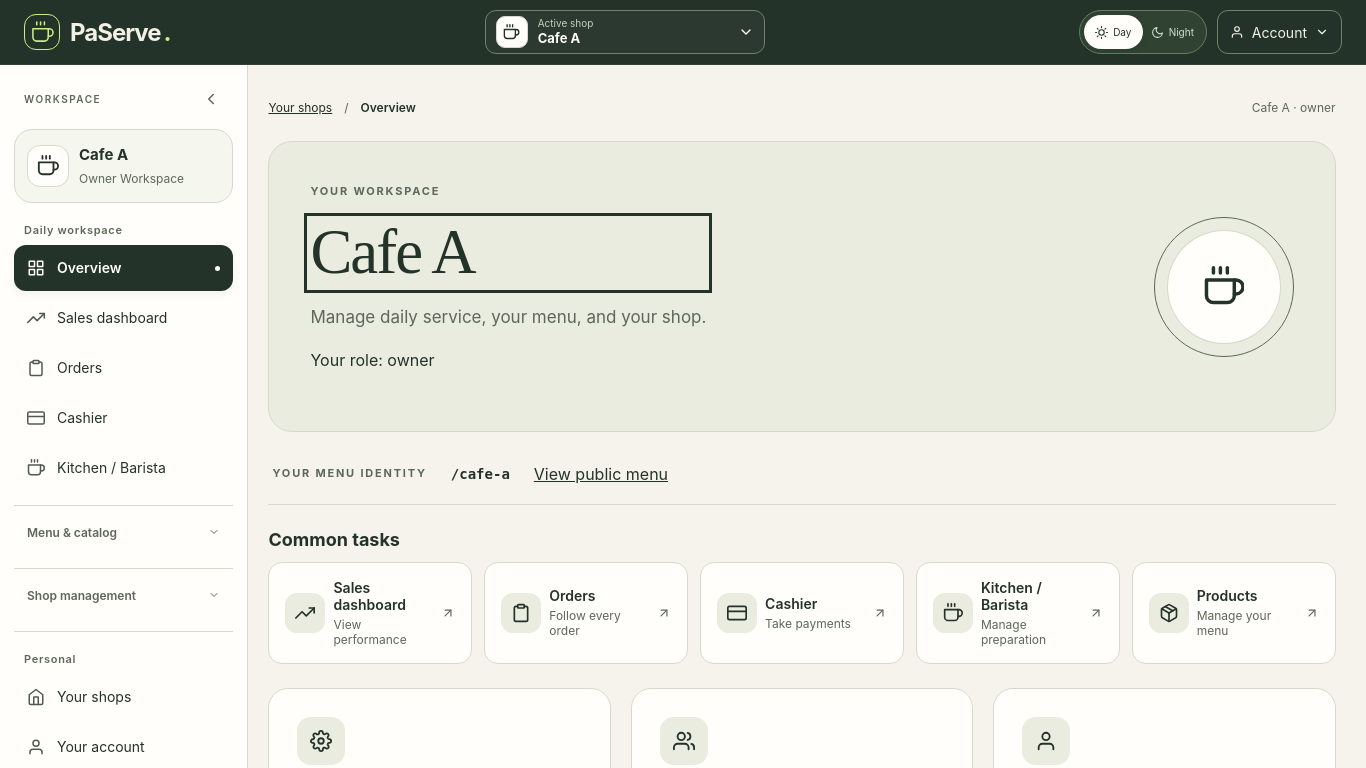
Test: shows a retryable sign-out error without clearing the user's context
This screenshot has width=1366, height=768.
Expected: the heading "Cafe A" is shown, [310,217,475,287]
Click the heading named "Account menu".
click(1279, 32)  # box [1217,10,1342,54]
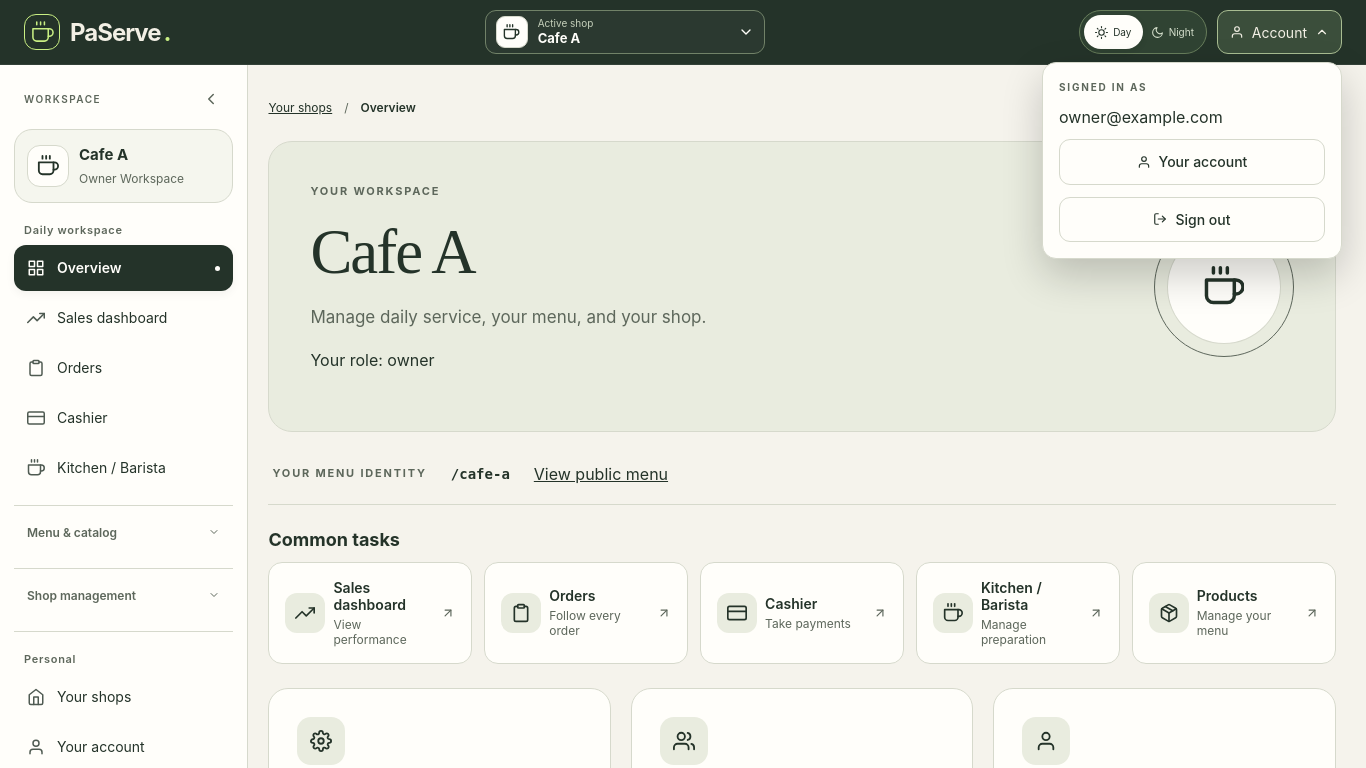
Click the button "Sign out".
click(1192, 219)  # box [1059,197,1325,242]
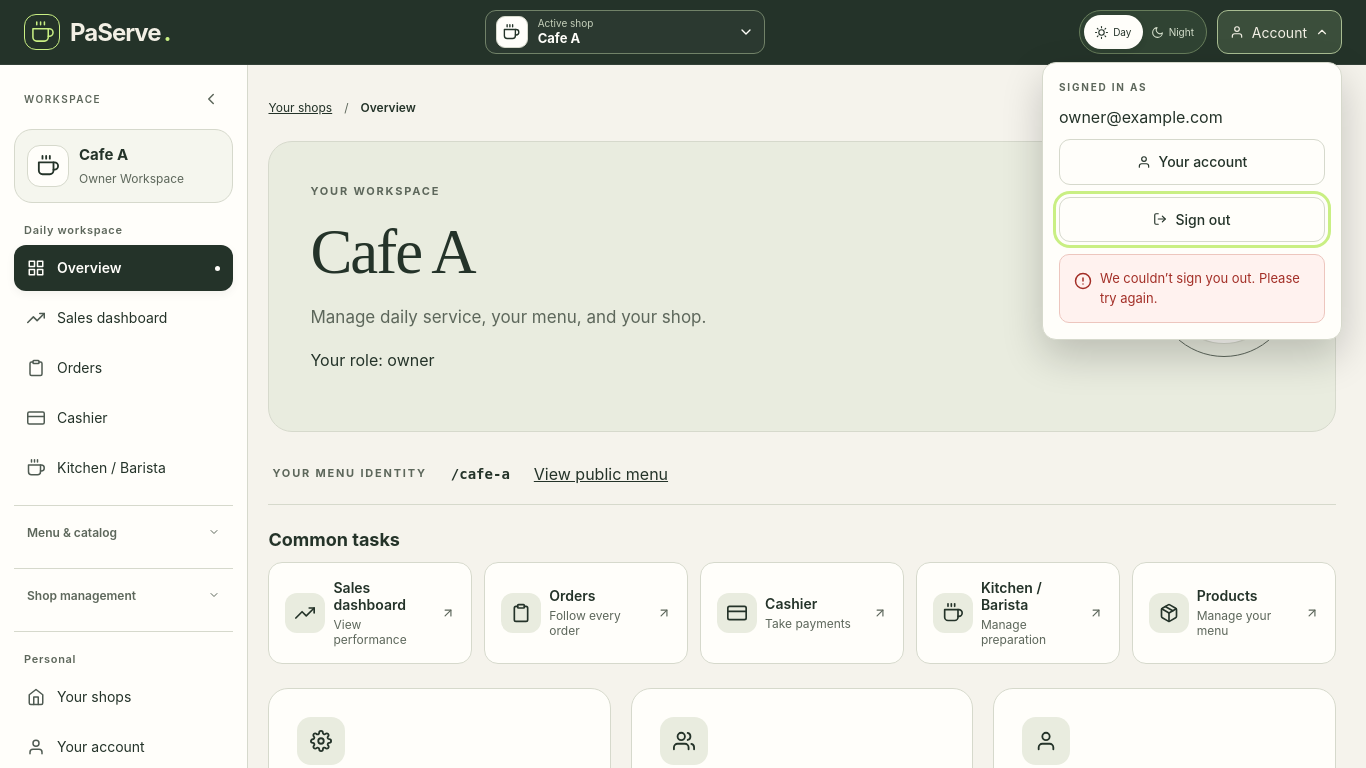
Expected: the message shows "We couldn’t sign you out", [1100,270,1300,306]
